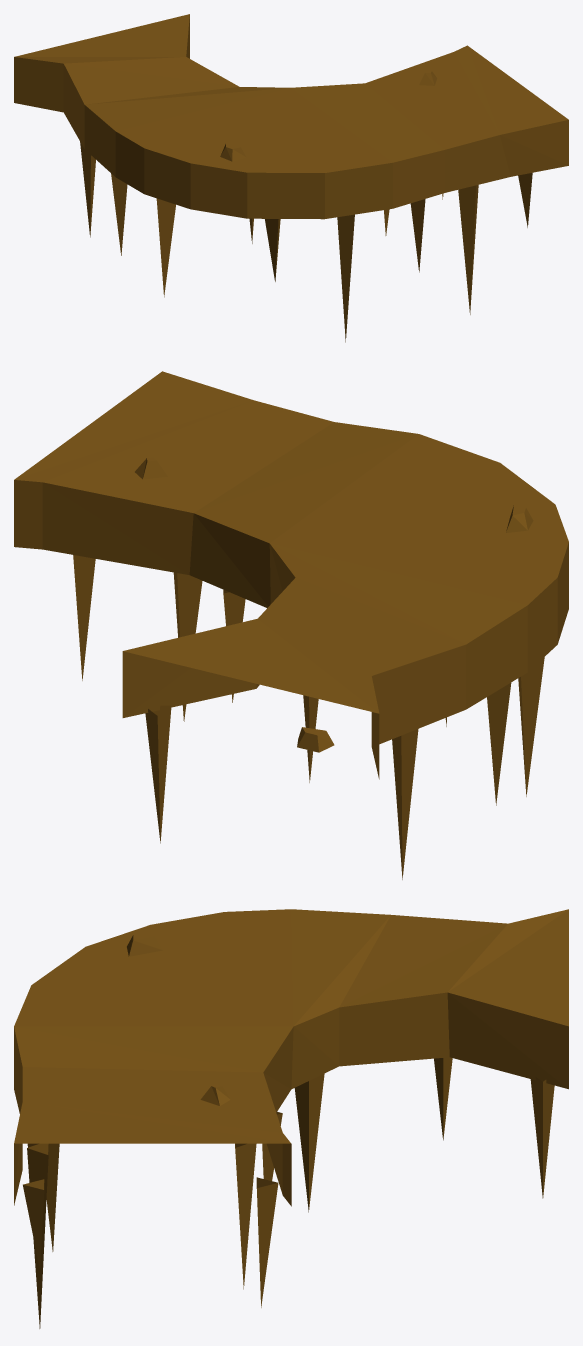
File: obj_bridge_9_0.obj
3 renders of one model, top to bottom at view 1: azimuth 30°, elevation 25°; view 2: azimuth 150°, elevation 25°; view 3: azimuth 270°, elevation 25°, orthographic. The views are drawn at different scales.
Bounding box in the file's own units: 2 × 1.05 × 2.
